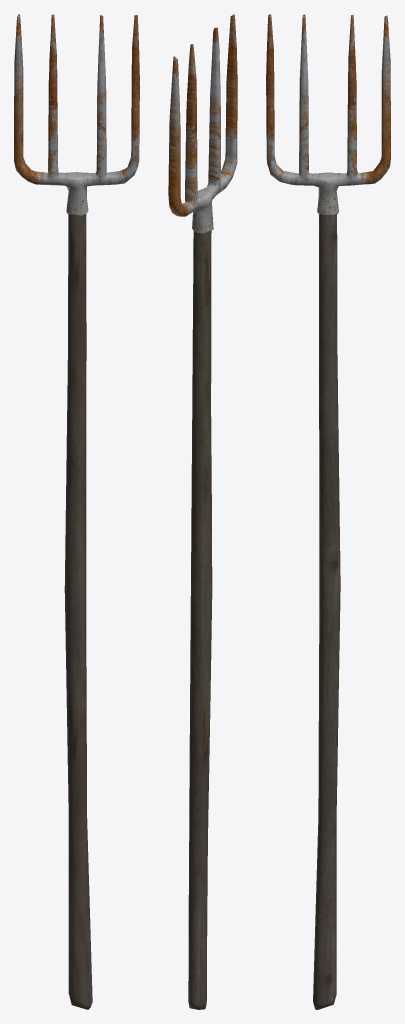
The model's file is SM_Pitchfork.fbx.
3 views of the same model, side by side, from view 1: azimuth 90°, elevation 25°; view 2: azimuth 150°, elevation 25°; view 3: azimuth 270°, elevation 25° (orthographic).
Visible parts, largest first — view 1: SM_Pitchfork_LOD0; view 2: SM_Pitchfork_LOD0; view 3: SM_Pitchfork_LOD0.
Boxes of the visible parts, <box> form: SM_Pitchfork_LOD0: <box>14,14,139,1009</box>; SM_Pitchfork_LOD0: <box>168,14,237,1009</box>; SM_Pitchfork_LOD0: <box>266,14,390,1009</box>.
Size of the model in its own units: 5 by 22.77 by 199.
